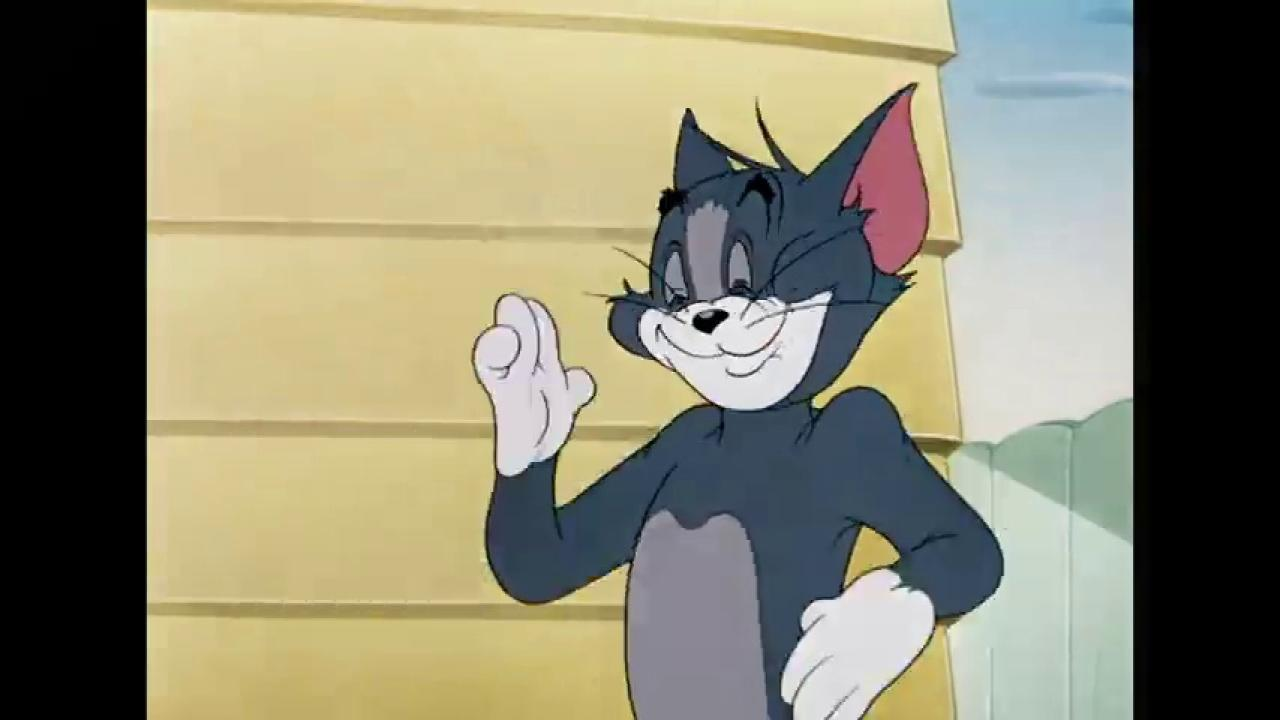Tom: (471, 79, 1006, 720)
